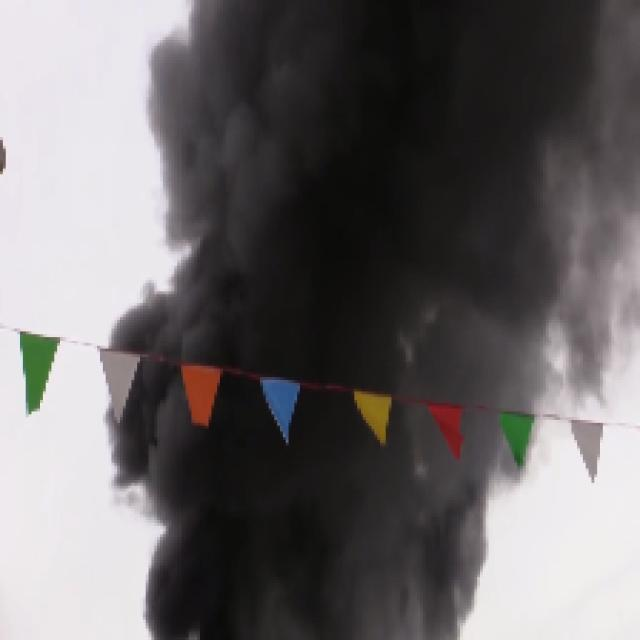Smoke: (105, 3, 640, 343), (117, 457, 517, 634), (477, 354, 629, 402)
